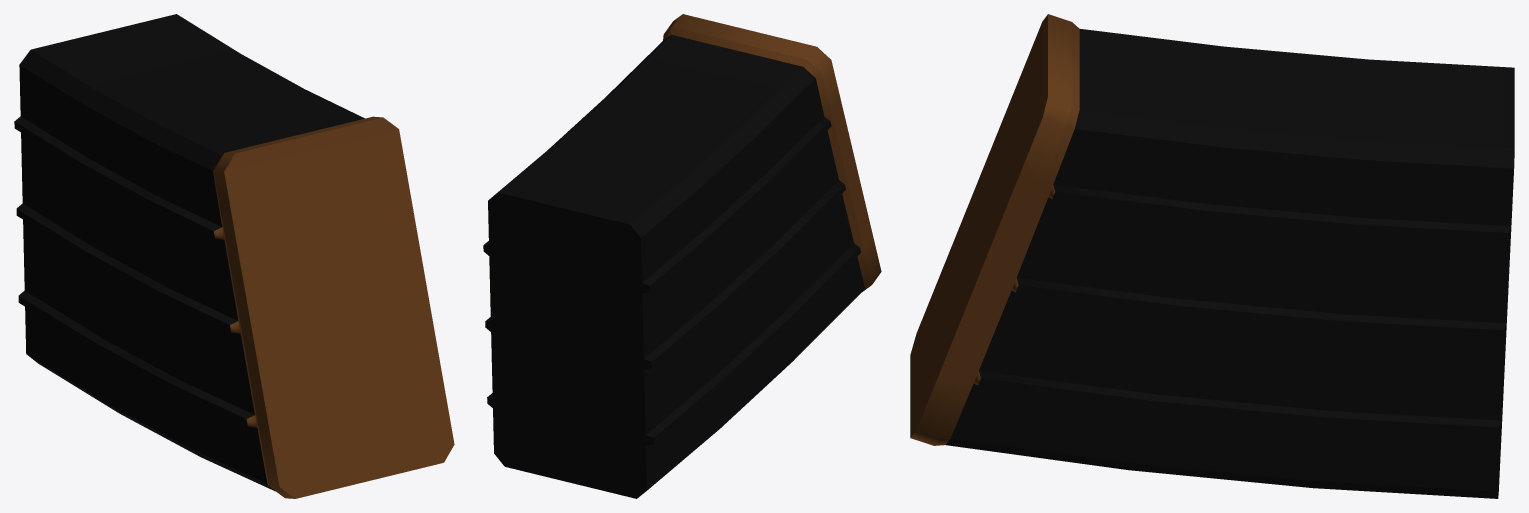
The model's file is PenteArma.fbx.
3 views of the same model, side by side, from view 1: azimuth 30°, elevation 25°; view 2: azimuth 150°, elevation 25°; view 3: azimuth 270°, elevation 25° (orthographic). The views are drawn at different scales.
Visible parts, largest first — view 1: G28 Rifle.001; view 2: G28 Rifle.001; view 3: G28 Rifle.001.
Boxes of the visible parts, x1,y1,x2,y2 form: G28 Rifle.001: (14,14,454,498); G28 Rifle.001: (483,14,881,498); G28 Rifle.001: (910,14,1514,498).
Size of the model in its own units: 4.79 by 8.82 by 11.99.
